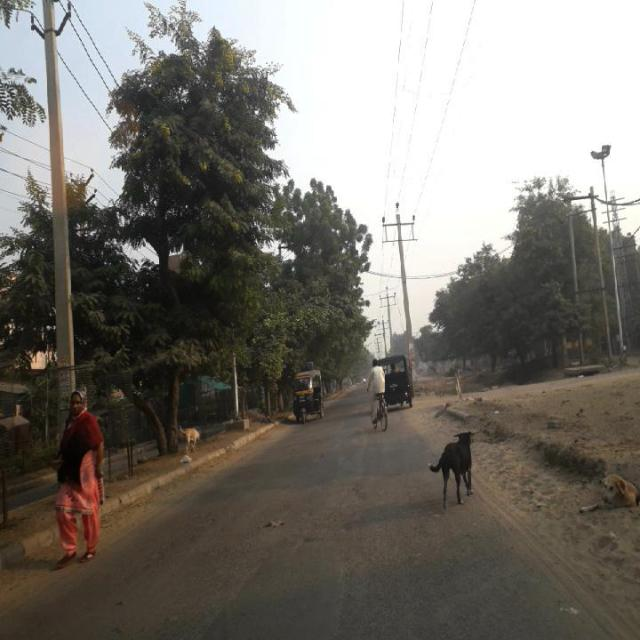pothole: (258, 514, 290, 530)
